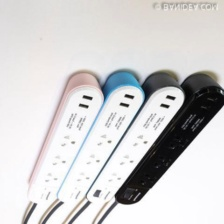three_eye_plug: (113, 70, 223, 206), (82, 69, 187, 206), (55, 69, 146, 205), (23, 66, 105, 206)
